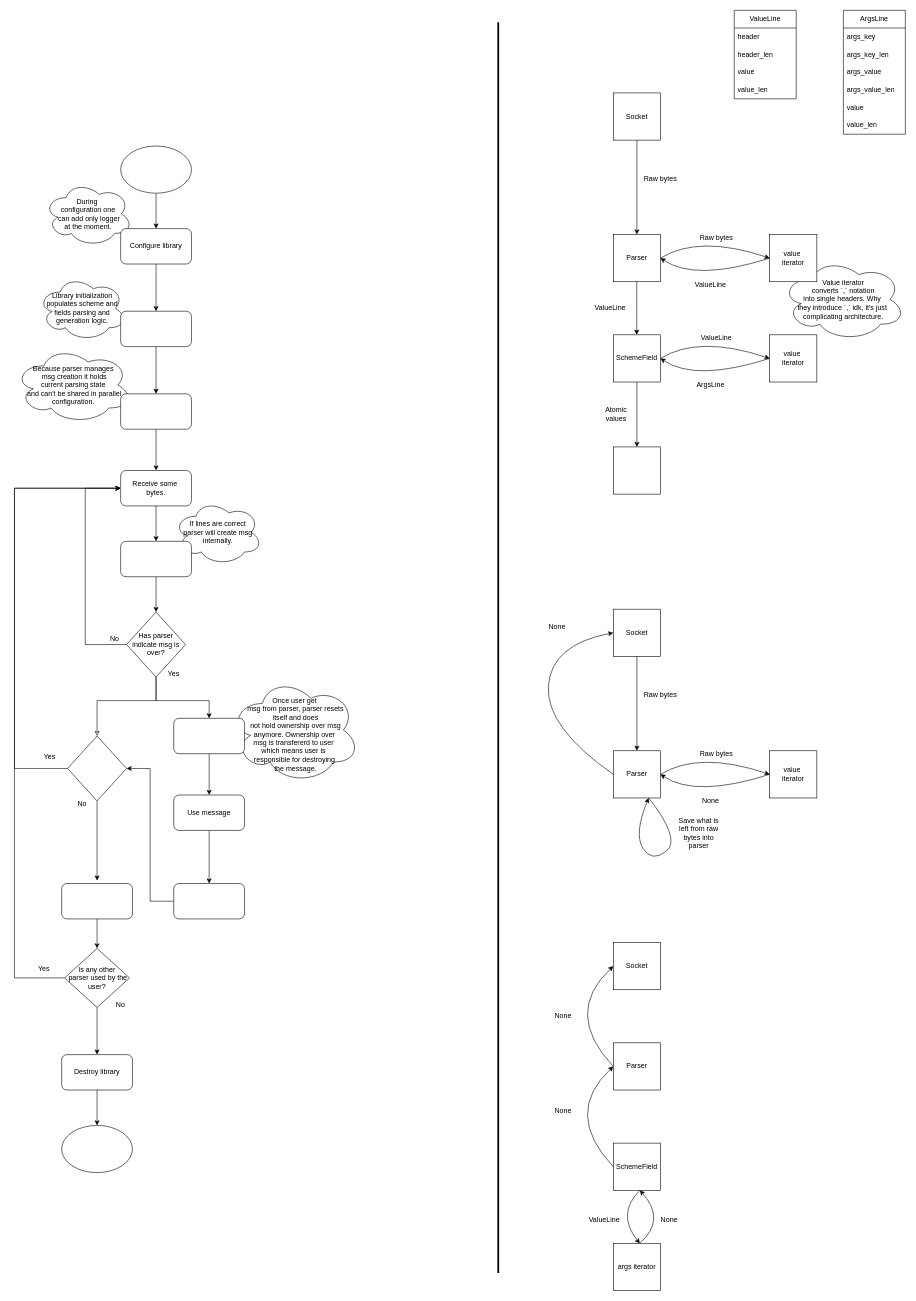
This 916x1301 diagram has some shape labels left out. The centre of each missing label's shape, as x and y in pixels:
"Create one parser per thread." goes at (x=155, y=411).
"Destroy message" goes at (x=209, y=901).
"Destroy parser" goes at (x=96, y=901).
"Feed parser some bytes." goes at (x=155, y=559).
"Get message from parser." goes at (x=209, y=736).
"Init library" goes at (x=155, y=329).
"Sip msg" goes at (x=637, y=470).
"User doesn not use our library anymore." goes at (x=96, y=1149).
"User use our library." goes at (x=155, y=169).
"Want to parse another msg?" goes at (x=97, y=768).
